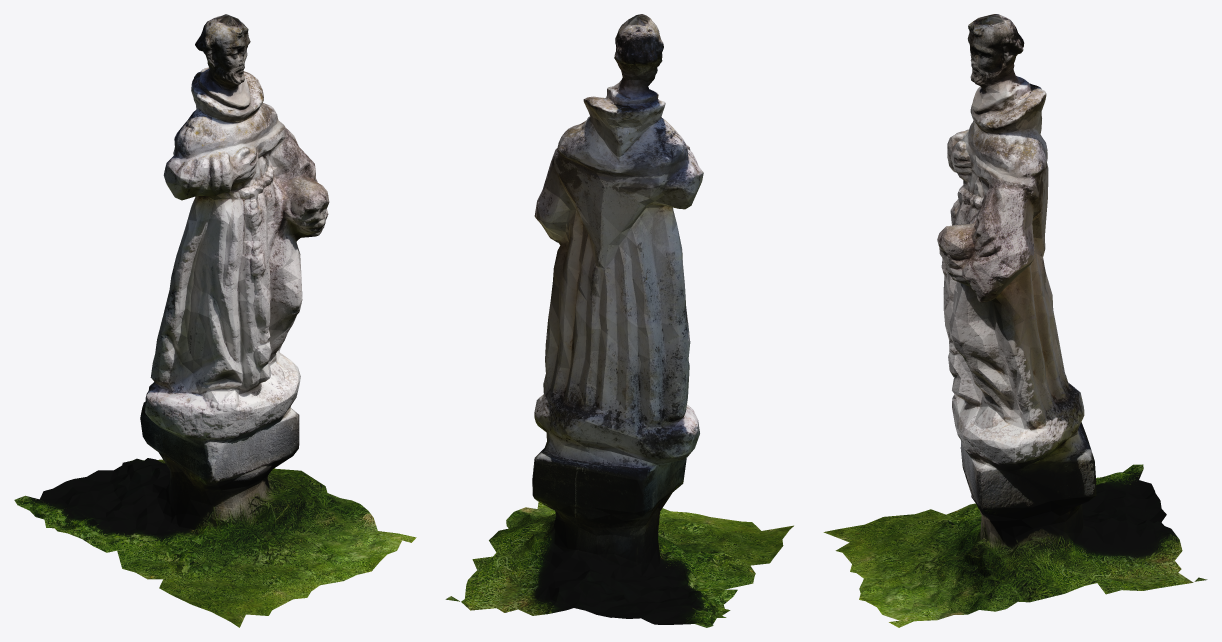
Rendered from 8-estatuaFinal1.glb.
3 views of the same model, side by side, from view 1: azimuth 30°, elevation 25°; view 2: azimuth 150°, elevation 25°; view 3: azimuth 270°, elevation 25° (orthographic). The views are drawn at different scales.
Parts seen in each view (by area): view 1: Mesh_0, Mesh_1, Mesh_2; view 2: Mesh_1, Mesh_0, Mesh_2; view 3: Mesh_1, Mesh_2, Mesh_0.
Part boxes in pixels (bbox=[...]): Mesh_0: bbox=[145, 67, 416, 580]; Mesh_1: bbox=[14, 16, 342, 627]; Mesh_2: bbox=[156, 14, 302, 529]; Mesh_1: bbox=[461, 22, 793, 627]; Mesh_0: bbox=[445, 86, 699, 601]; Mesh_2: bbox=[534, 14, 703, 576]; Mesh_1: bbox=[823, 14, 1193, 602]; Mesh_2: bbox=[947, 14, 1084, 544]; Mesh_0: bbox=[859, 79, 1207, 627].
Size of the model in its own units: 3.43 by 6.16 by 3.89.
Materials: 3 (3 with a texture image).
